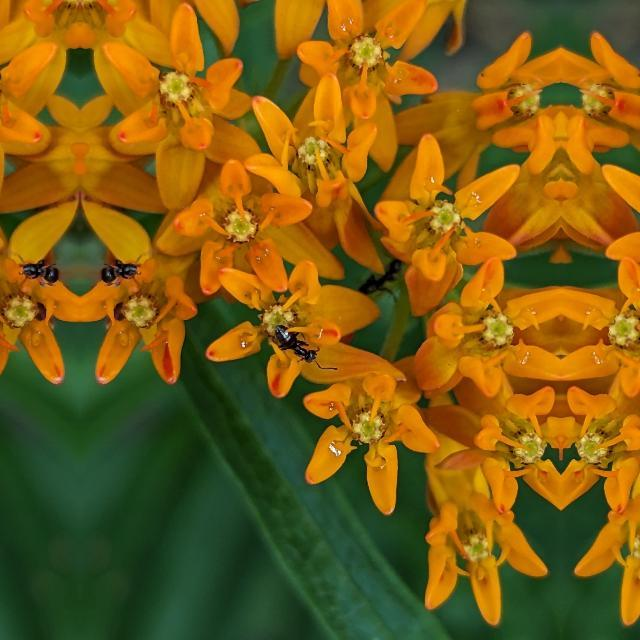Tapinoma: (262, 306, 328, 380), (354, 245, 408, 303), (91, 248, 147, 300), (11, 248, 67, 300)
